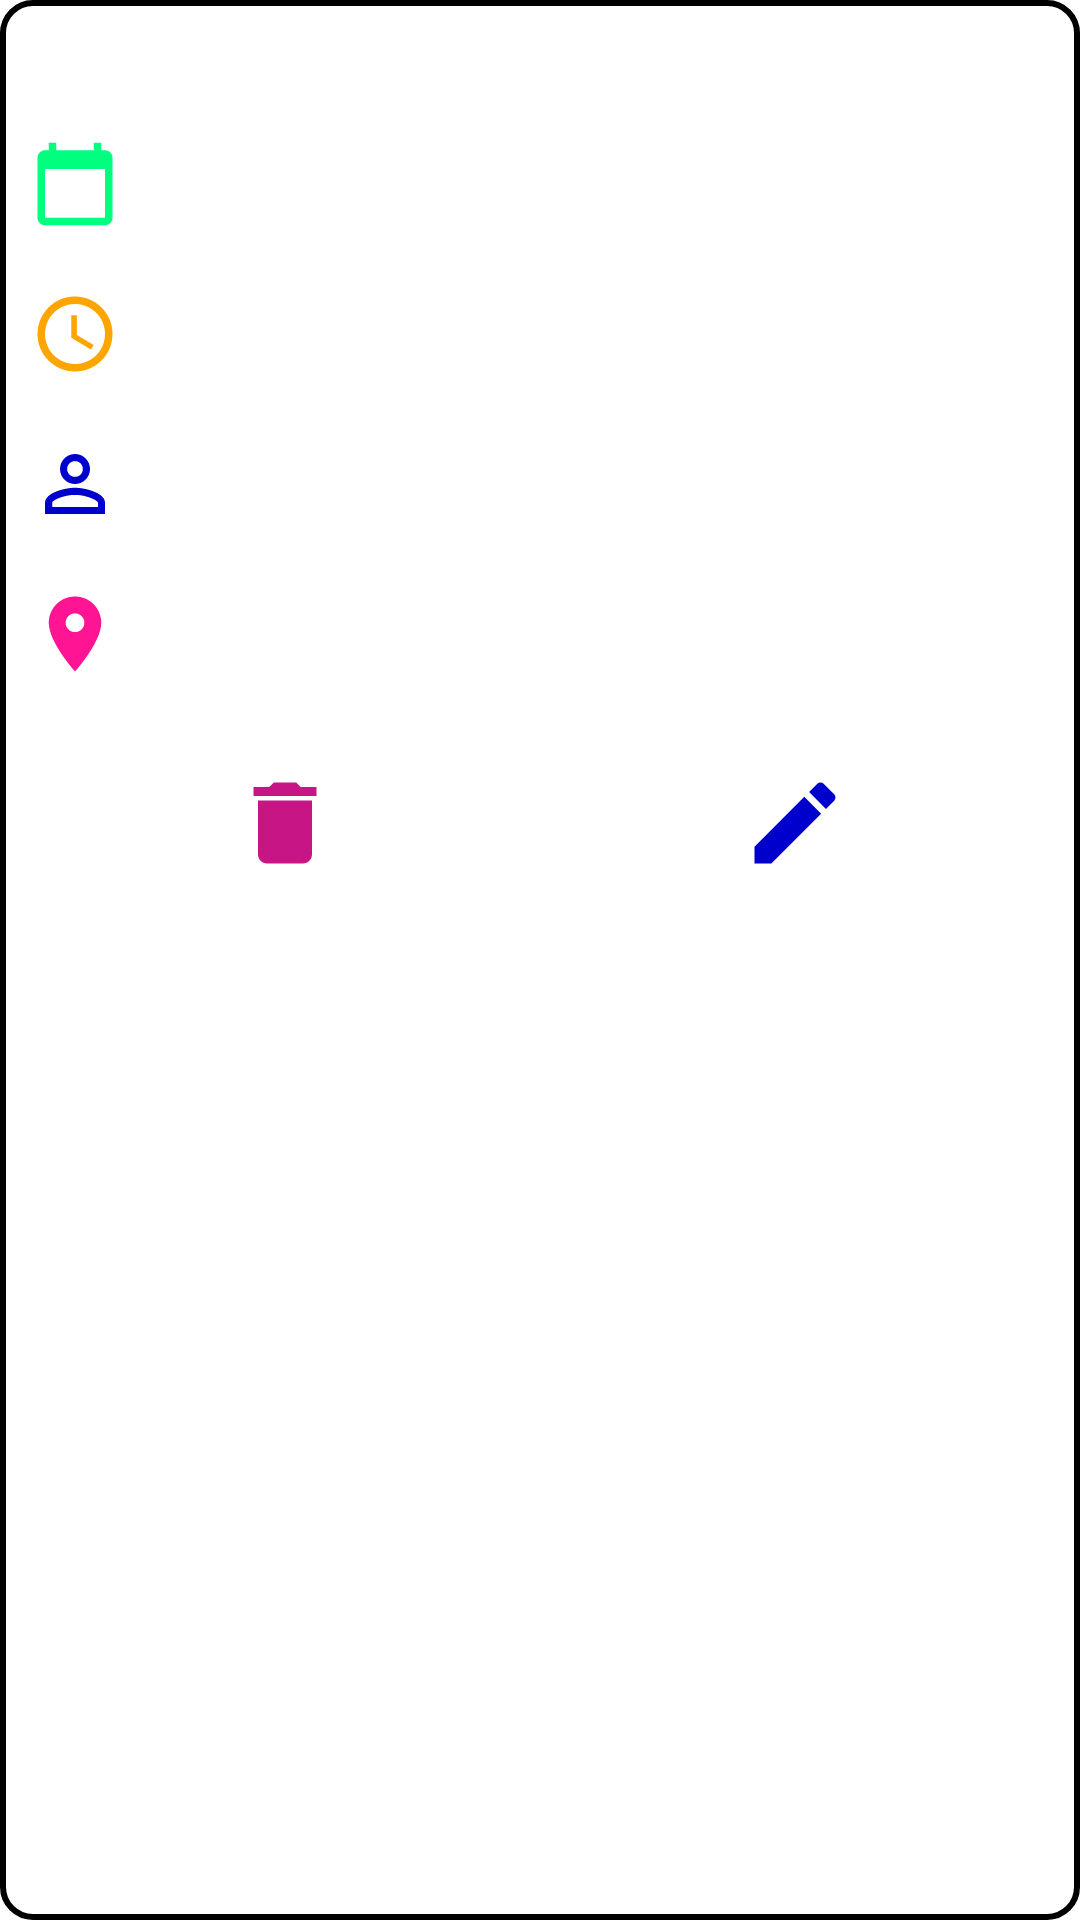

Screen size 1080*1920. Icon name, then its center in pixels as (x=x, y=y):
create: (x=795, y=823)
delete: (x=285, y=823)
